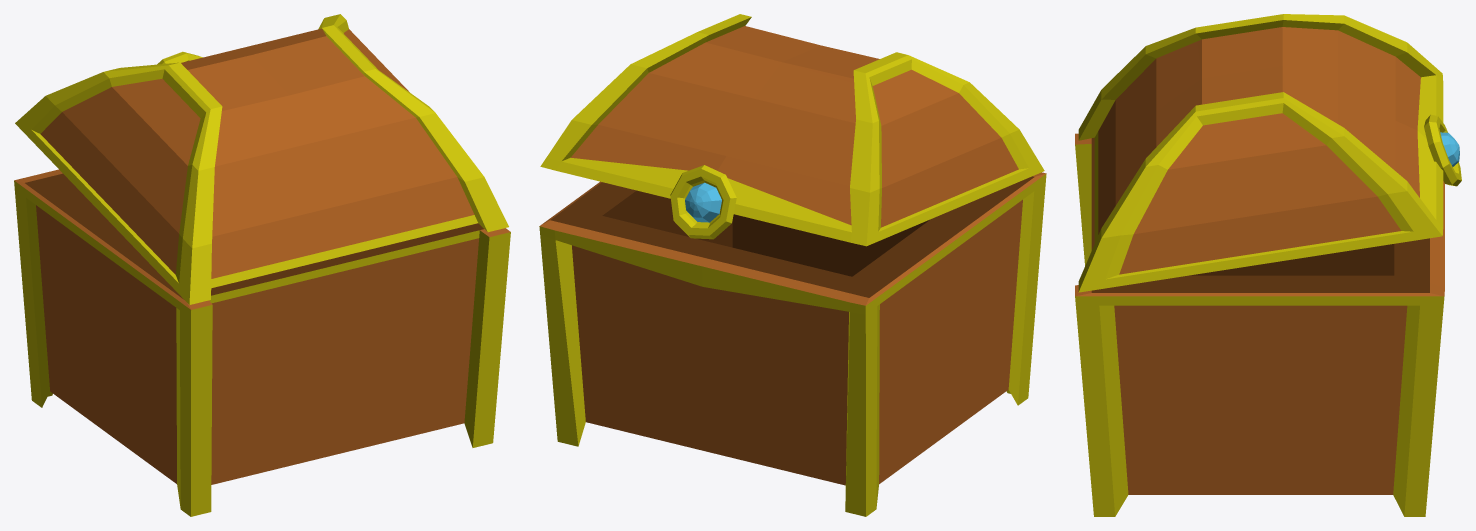
Rendered from Chest.fbx.
The picture shows the model from 3 angles, left to right: view 1: azimuth 30°, elevation 25°; view 2: azimuth 150°, elevation 25°; view 3: azimuth 270°, elevation 25°; orthographic projection. The views are drawn at different scales.
Parts seen in each view (by area): view 1: Cube; view 2: Cube; view 3: Cube.
Boxes of the visible parts, x1,y1,x2,y2 form: Cube: (14, 14, 510, 516); Cube: (539, 14, 1046, 516); Cube: (1075, 14, 1461, 516).
Size of the model in its own units: 228 by 251 by 229.
